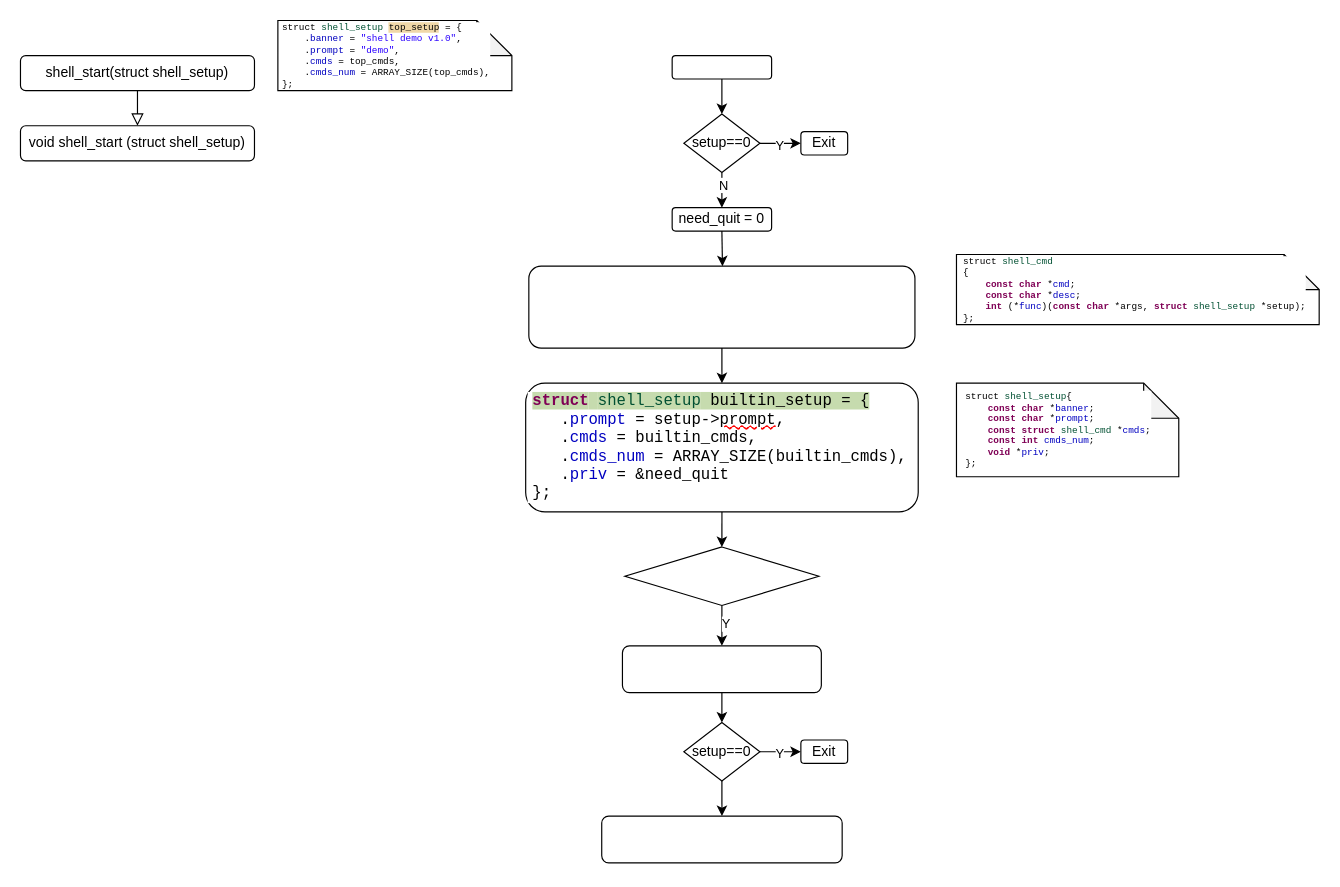
Some shapes in this 1340 by 887 pixel diagram are drawn without their labels. The shapes that lost their labels are listed below. From the top down, each one's centre as x and y in pixels, then its label:
point (721, 66): Start
point (721, 306): const struct shell_cmd builtin_cmds[] = { { "q" , "quit" , builtin_quit }, };
point (721, 575): need_builtin_hint==1
point (721, 669): SHELL_PRINTF need_builtin_hint = 0
point (721, 839): SHELL_PRINTF input = trim(SHELL_GETS(buf)
